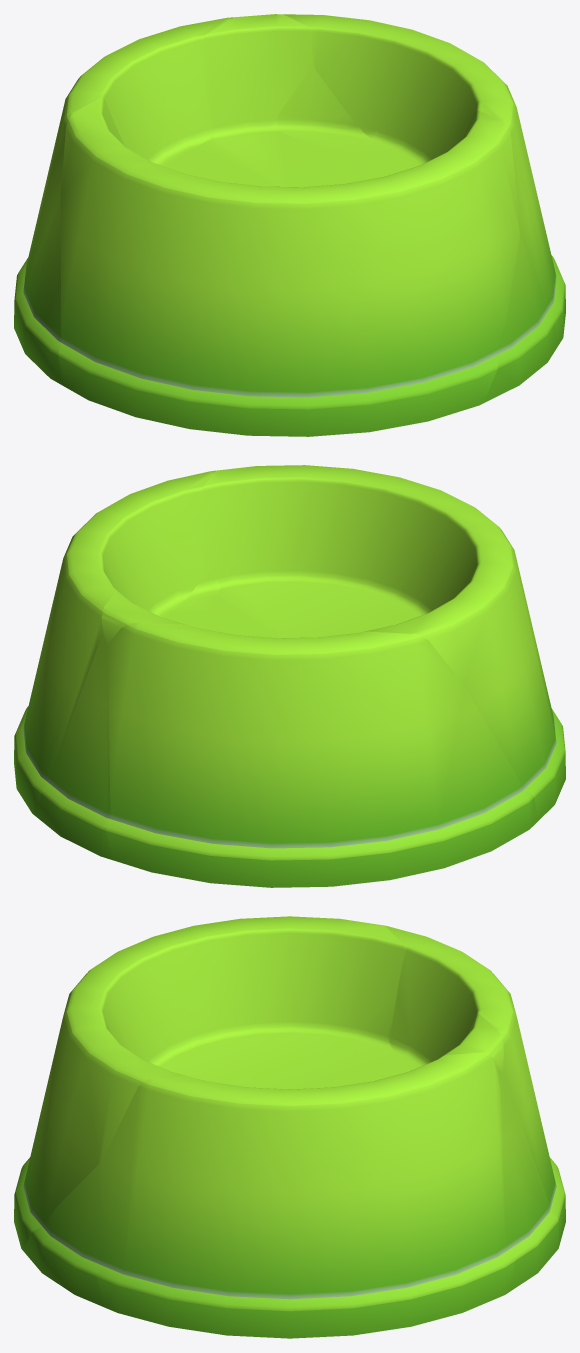
The model's file is Dogfood_Fracture.FBX.
3 views of the same model, one above another, from view 1: azimuth 30°, elevation 25°; view 2: azimuth 150°, elevation 25°; view 3: azimuth 270°, elevation 25° (orthographic).
Visible parts, largest first — view 1: OBJ_501_Part_3, OBJ_501_Part_2, OBJ_501_Part_4, OBJ_501_Part_1; view 2: OBJ_501_Part_4, OBJ_501_Part_3, OBJ_501_Part_2, OBJ_501_Part_1; view 3: OBJ_501_Part_2, OBJ_501_Part_3, OBJ_501_Part_4, OBJ_501_Part_1.
Boxes of the visible parts, x1,y1,x2,y2 form: OBJ_501_Part_3: (58, 14, 520, 436); OBJ_501_Part_2: (283, 14, 565, 344); OBJ_501_Part_4: (14, 17, 233, 385); OBJ_501_Part_1: (273, 66, 558, 403); OBJ_501_Part_4: (106, 622, 538, 887); OBJ_501_Part_3: (101, 465, 565, 820); OBJ_501_Part_2: (14, 470, 215, 815); OBJ_501_Part_1: (35, 569, 220, 860); OBJ_501_Part_2: (96, 1052, 514, 1338); OBJ_501_Part_3: (14, 916, 503, 1250); OBJ_501_Part_4: (383, 925, 565, 1240); OBJ_501_Part_1: (23, 1070, 560, 1307).
Size of the model in its own units: 65.79 by 28.04 by 65.79.
